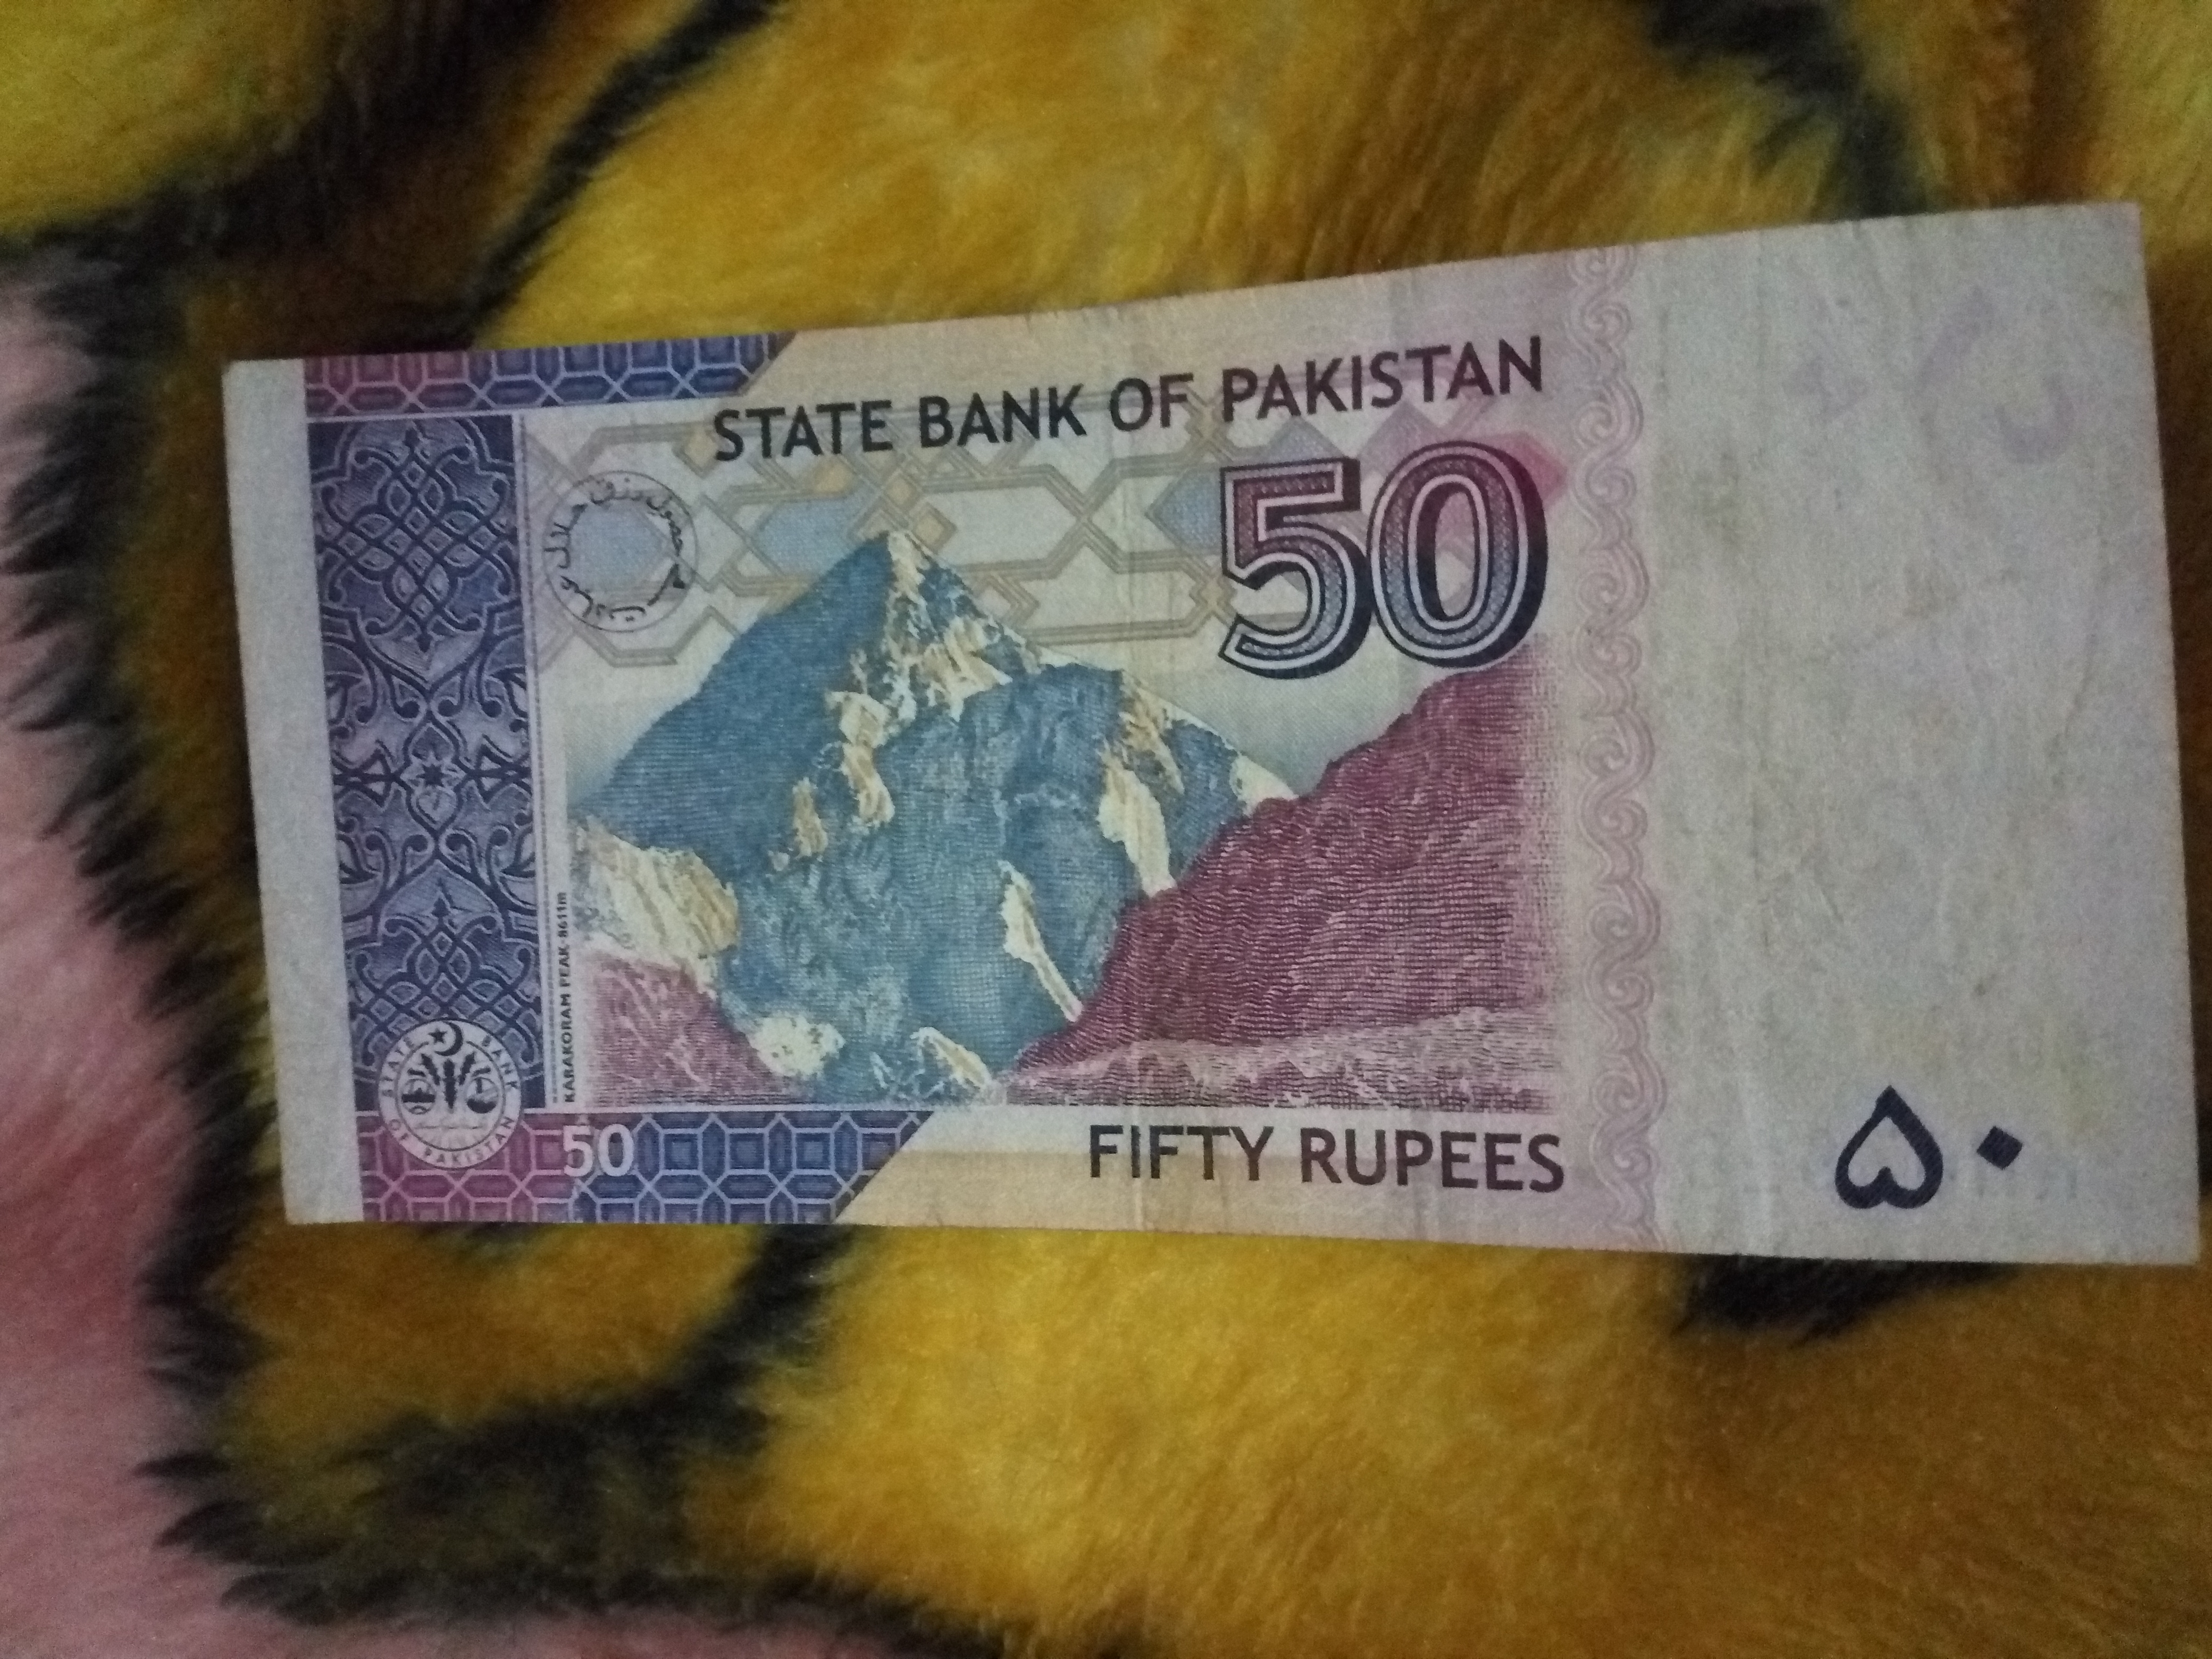50 rupee: (237, 261, 2182, 1373)
